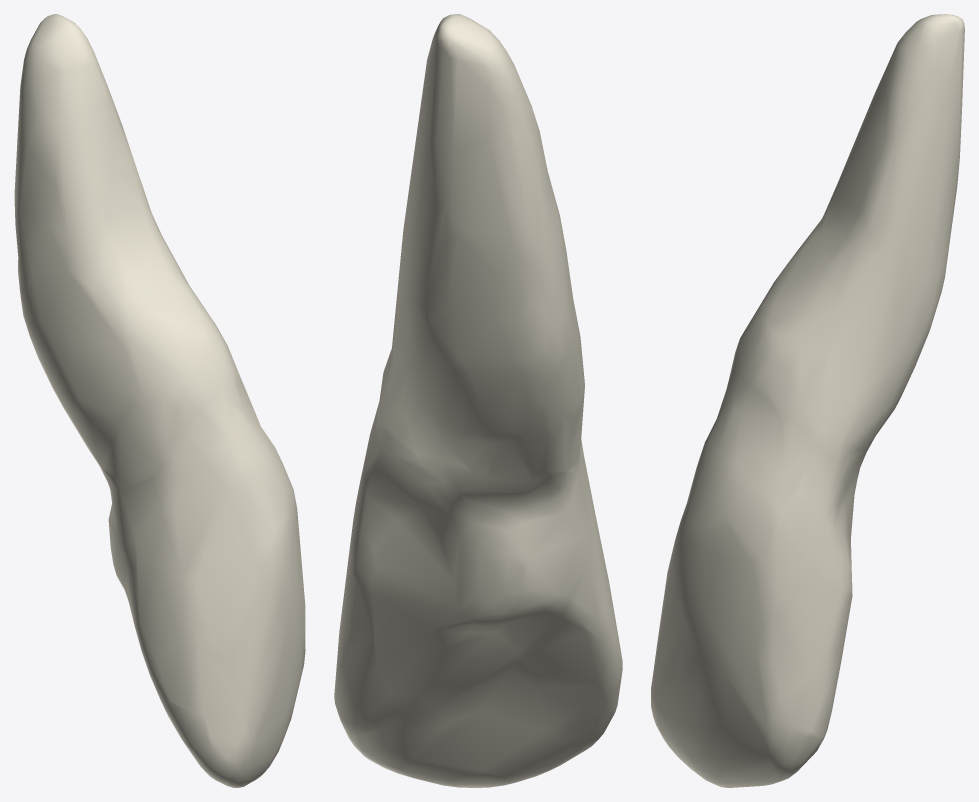
The picture shows the model from 3 angles, left to right: view 1: azimuth 30°, elevation 25°; view 2: azimuth 150°, elevation 25°; view 3: azimuth 270°, elevation 25°; orthographic projection. The views are drawn at different scales.
Parts seen in each view (by area): view 1: ZA_28ab9d9ee4f725c3; view 2: ZA_28ab9d9ee4f725c3; view 3: ZA_28ab9d9ee4f725c3.
Part boxes in pixels (x1,y1,x2,y2): ZA_28ab9d9ee4f725c3: (14, 14, 305, 787); ZA_28ab9d9ee4f725c3: (334, 14, 622, 787); ZA_28ab9d9ee4f725c3: (651, 14, 964, 787).
Size of the model in its own units: 0.00937 by 0.0282 by 0.011.
